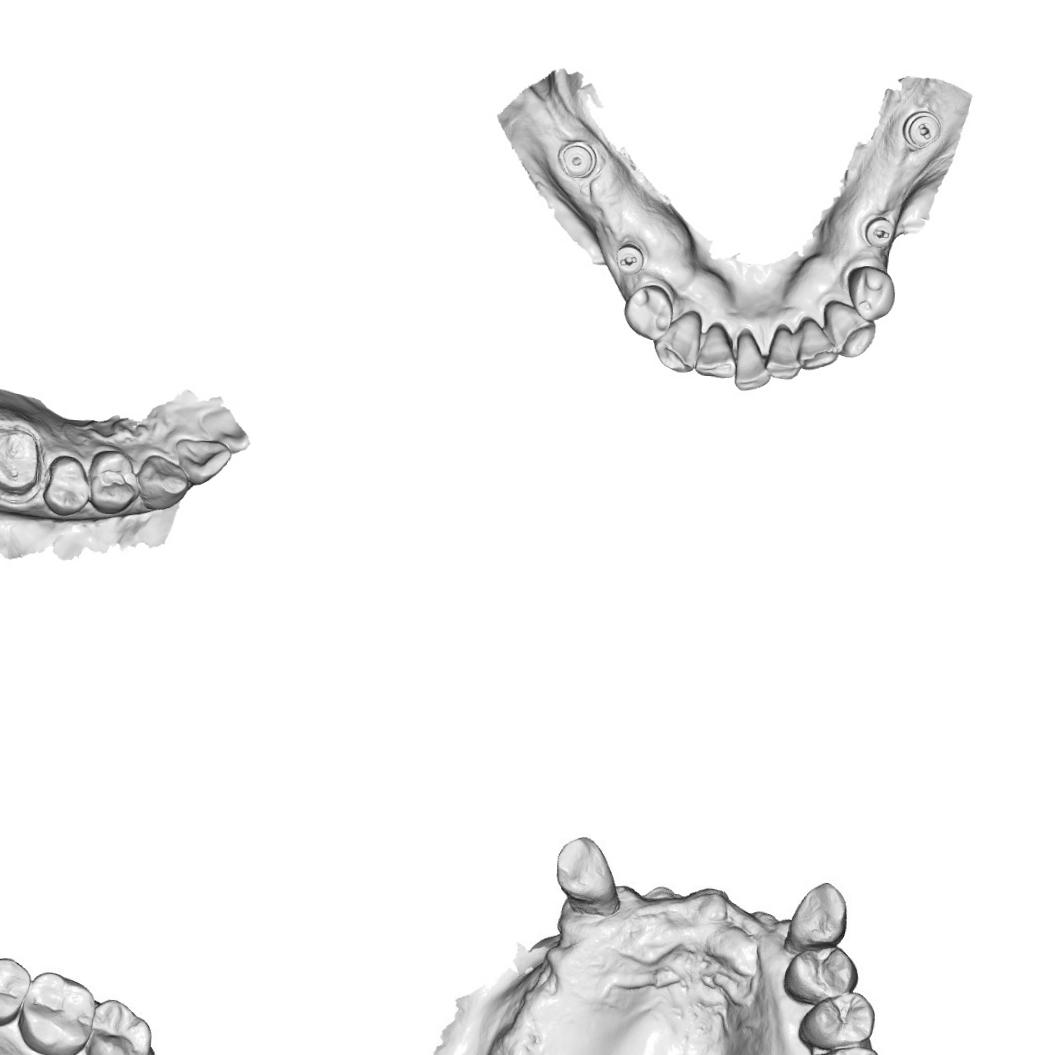canine: (552, 832, 620, 906), (131, 446, 193, 520), (790, 879, 850, 942), (650, 308, 704, 374), (819, 297, 877, 358)
crown: (0, 412, 45, 496)
implant: (554, 137, 598, 180)
implant_minus: (899, 108, 942, 152), (860, 215, 896, 248), (613, 240, 645, 276)
incisor: (170, 430, 238, 492), (732, 326, 772, 392), (693, 320, 738, 378), (796, 312, 841, 370), (764, 321, 802, 379)
molar: (13, 968, 97, 1055), (81, 995, 154, 1055)
premolar: (88, 441, 144, 518), (36, 445, 92, 521), (785, 942, 858, 1000), (803, 990, 873, 1048), (620, 282, 674, 342), (844, 263, 898, 322), (0, 951, 30, 1029)
